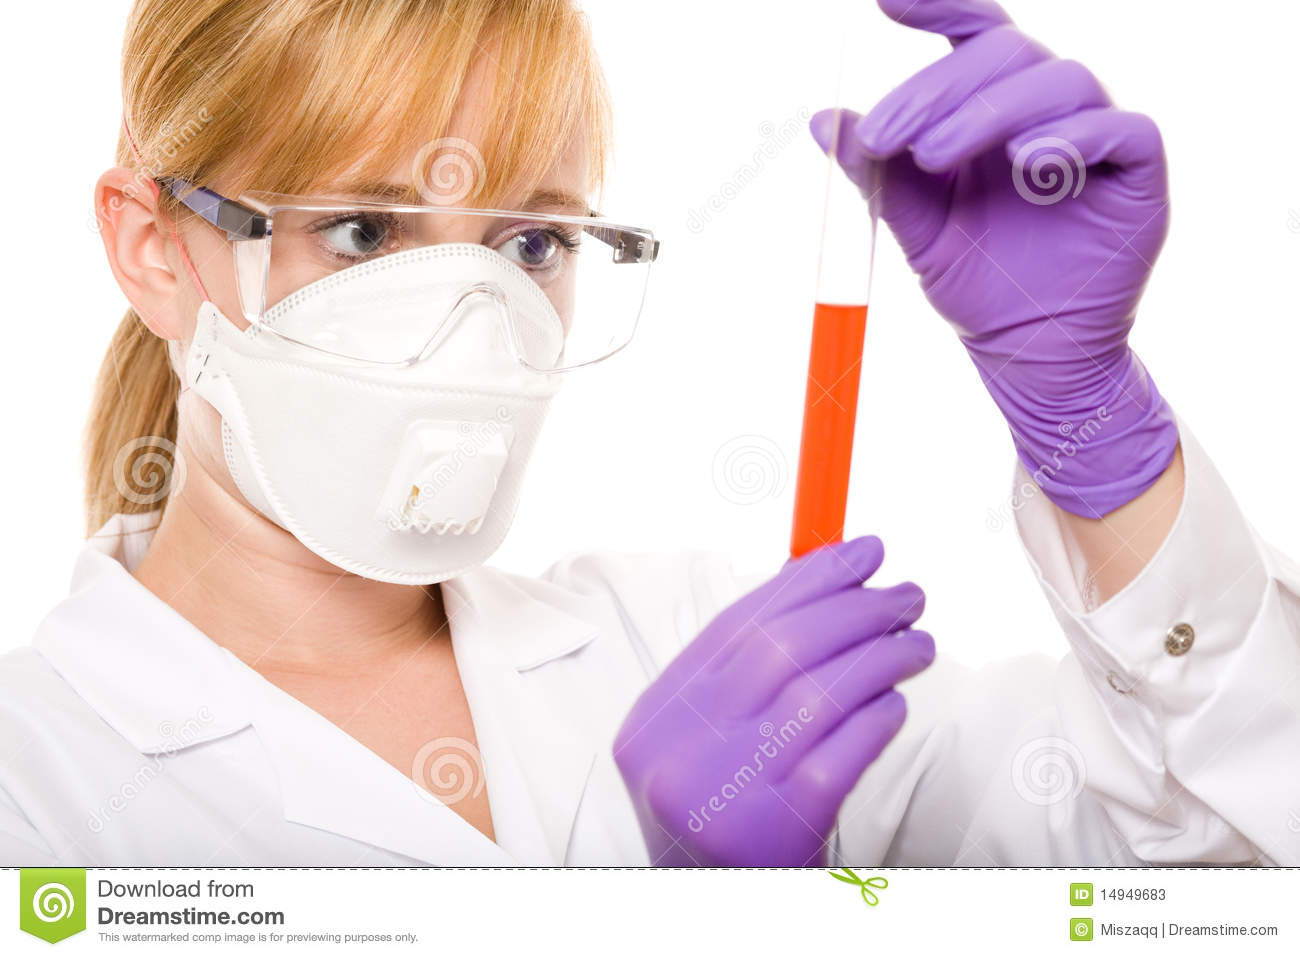mask: (217, 271, 573, 583)
